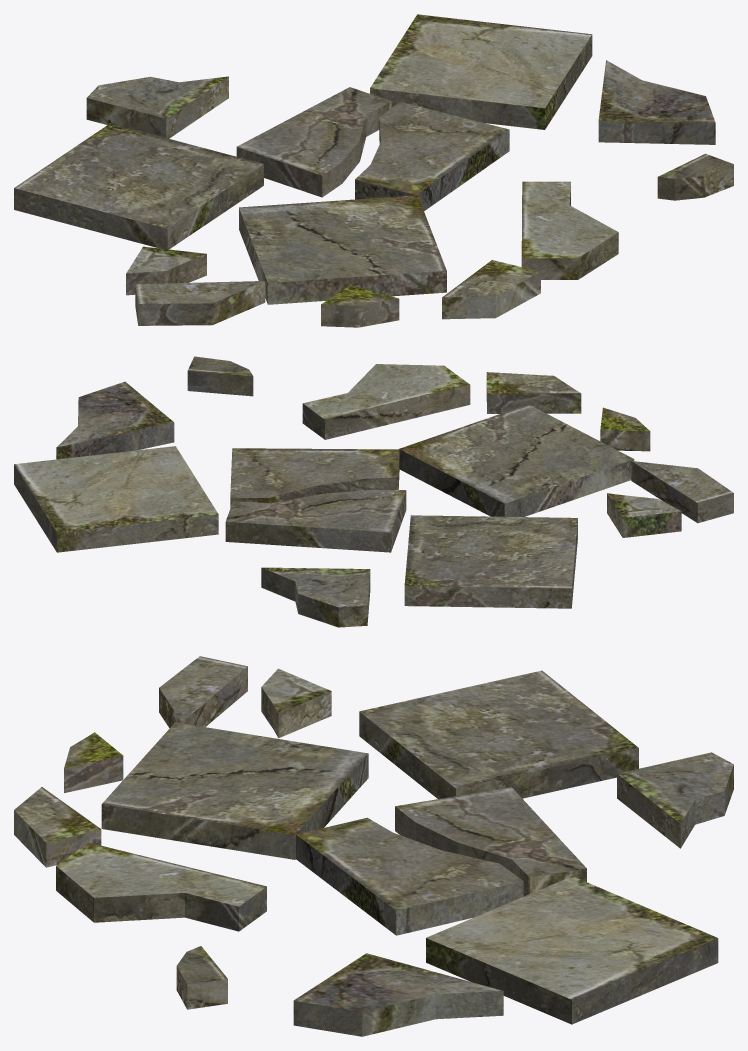
File: bg_lut_lucastle_castlefloorcrack01c_sm_lkj.FBX
The picture shows the model from 3 angles, top to bottom: view 1: azimuth 30°, elevation 25°; view 2: azimuth 150°, elevation 25°; view 3: azimuth 270°, elevation 25°; orthographic projection. The views are drawn at different scales.
Parts seen in each view (by area): view 1: bg_lut_lucastle_castlefloorcrack01c_sm_lkj; view 2: bg_lut_lucastle_castlefloorcrack01c_sm_lkj; view 3: bg_lut_lucastle_castlefloorcrack01c_sm_lkj.
Boxes of the visible parts, left/top/right/bottom form: bg_lut_lucastle_castlefloorcrack01c_sm_lkj: left=14, top=14, right=733, bottom=327; bg_lut_lucastle_castlefloorcrack01c_sm_lkj: left=14, top=356, right=733, bottom=627; bg_lut_lucastle_castlefloorcrack01c_sm_lkj: left=14, top=656, right=733, bottom=1036.
Size of the model in its own units: 246 by 8 by 210.
